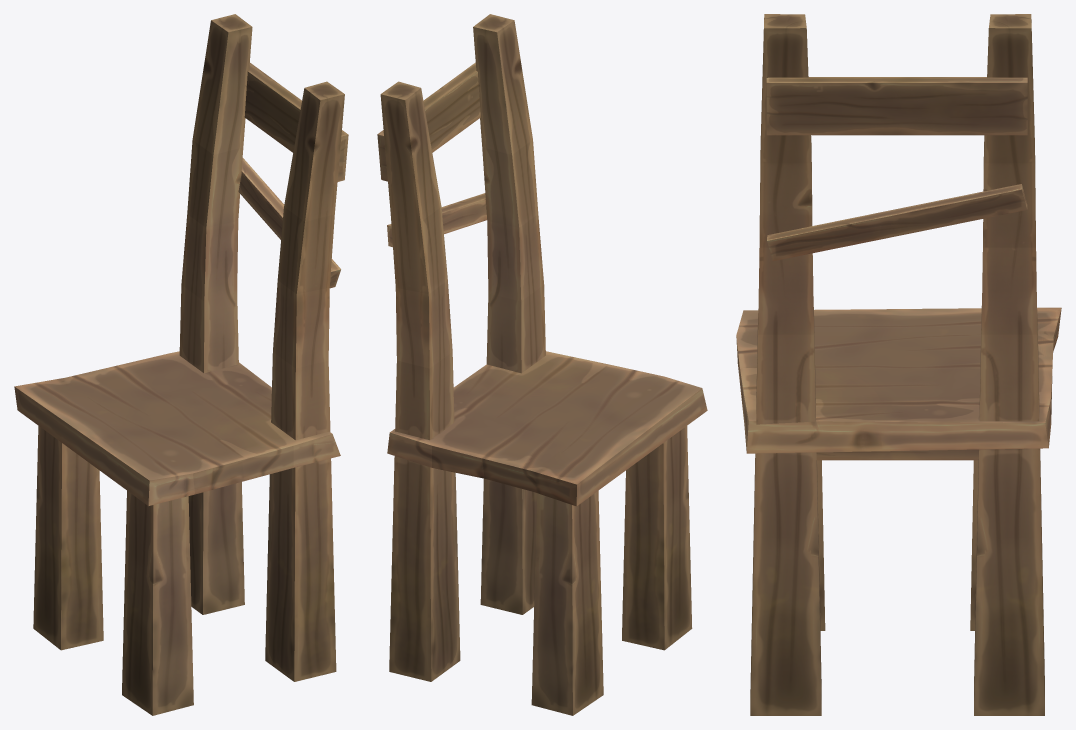
File: SM_Chair_01.fbx
The picture shows the model from 3 angles, left to right: view 1: azimuth 30°, elevation 25°; view 2: azimuth 150°, elevation 25°; view 3: azimuth 270°, elevation 25°; orthographic projection. The views are drawn at different scales.
Visible parts, largest first — view 1: SM_Chair_01_LOD0; view 2: SM_Chair_01_LOD0; view 3: SM_Chair_01_LOD0.
Part boxes in pixels (x1=…): SM_Chair_01_LOD0: x1=14, y1=14, x2=348, y2=715; SM_Chair_01_LOD0: x1=377, y1=14, x2=707, y2=715; SM_Chair_01_LOD0: x1=736, y1=14, x2=1061, y2=715.
Bounding box in the file's own units: 61.43 × 66.39 × 157.
Materials: 1 (1 with a texture image).
